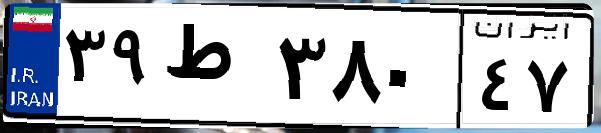0: (385, 28, 445, 110)
3: (270, 28, 330, 110), (57, 26, 110, 100)
4: (475, 38, 525, 113)
7: (525, 38, 570, 115)
8: (330, 28, 385, 110)
9: (110, 28, 158, 98)
ط: (158, 20, 270, 120)
